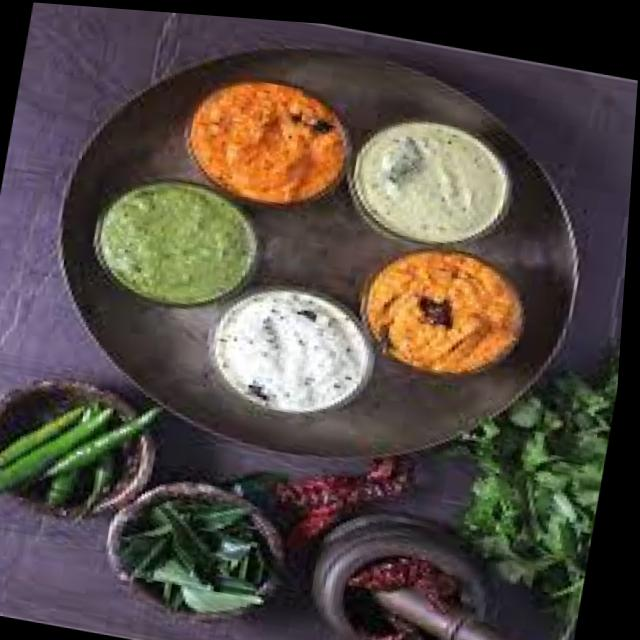GREEN CHUTNEY: (103, 189, 248, 302)
RED CHUTNEY: (191, 83, 343, 203), (368, 254, 521, 373)
WHITE CHUTNEY: (342, 109, 510, 250), (217, 292, 364, 412)
